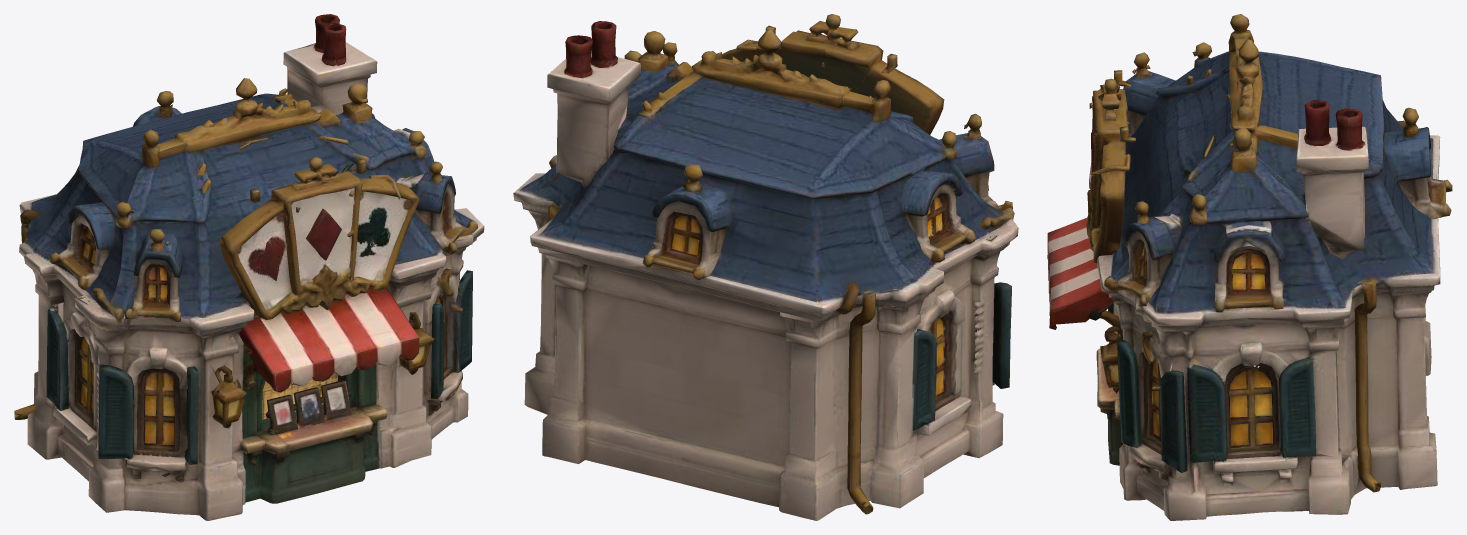
3 renders of one model, left to right at view 1: azimuth 30°, elevation 25°; view 2: azimuth 150°, elevation 25°; view 3: azimuth 270°, elevation 25°, orthographic. The views are drawn at different scales.
Parts seen in each view (by area): view 1: classic__card_pavilion__native_mobile; view 2: classic__card_pavilion__native_mobile; view 3: classic__card_pavilion__native_mobile.
Part boxes in pixels (bbox=[...]): classic__card_pavilion__native_mobile: bbox=[14, 14, 484, 520]; classic__card_pavilion__native_mobile: bbox=[513, 14, 1018, 520]; classic__card_pavilion__native_mobile: bbox=[1047, 14, 1452, 520].
Bounding box in the file's own units: 1 × 0.9102 × 0.8384.
Materials: 1 (1 with a texture image).
